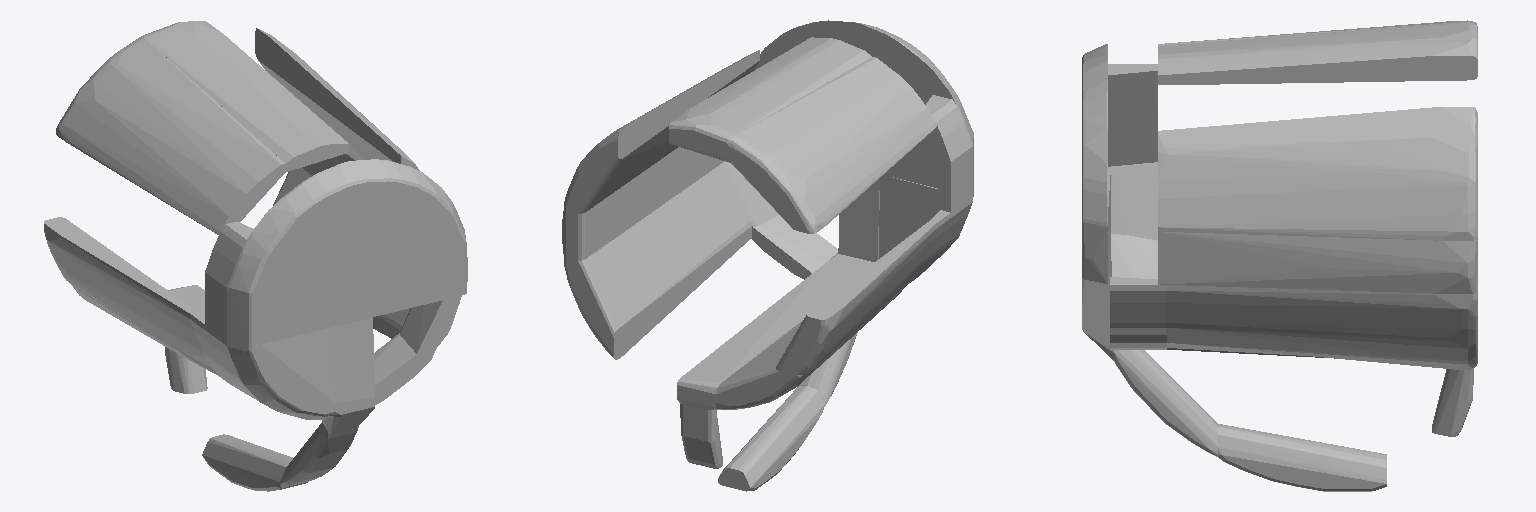
--- Render facts (derived) ---
Views: 3 orthographic renders of the robot side by side, from view 1: azimuth 30°, elevation 25°; view 2: azimuth 150°, elevation 25°; view 3: azimuth 270°, elevation 25°.
Model root with 27 links and 26 joints (26 fixed), rooted at link_coacd_convex_piece_0, posed all joints at 0.
Visible links, largest first — view 1: link_coacd_convex_piece_2, link_coacd_convex_piece_0, link_coacd_convex_piece_10, link_coacd_convex_piece_19, link_coacd_convex_piece_21, link_coacd_convex_piece_7, link_coacd_convex_piece_18, link_coacd_convex_piece_22, link_coacd_convex_piece_14, link_coacd_convex_piece_24, link_coacd_convex_piece_16, link_coacd_convex_piece_15 (+5 smaller); view 2: link_coacd_convex_piece_0, link_coacd_convex_piece_4, link_coacd_convex_piece_10, link_coacd_convex_piece_7, link_coacd_convex_piece_19, link_coacd_convex_piece_17, link_coacd_convex_piece_2, link_coacd_convex_piece_8, link_coacd_convex_piece_22, link_coacd_convex_piece_14, link_coacd_convex_piece_20, link_coacd_convex_piece_21 (+6 smaller); view 3: link_coacd_convex_piece_7, link_coacd_convex_piece_4, link_coacd_convex_piece_8, link_coacd_convex_piece_10, link_coacd_convex_piece_22, link_coacd_convex_piece_2, link_coacd_convex_piece_14, link_coacd_convex_piece_24, link_coacd_convex_piece_26, link_coacd_convex_piece_15, link_coacd_convex_piece_23, link_coacd_convex_piece_18 (+4 smaller).
Link boxes in pixels (bbox=[...]): link_coacd_convex_piece_2: bbox=[227, 159, 467, 346]; link_coacd_convex_piece_0: bbox=[56, 37, 285, 234]; link_coacd_convex_piece_10: bbox=[141, 21, 348, 171]; link_coacd_convex_piece_19: bbox=[44, 217, 213, 369]; link_coacd_convex_piece_21: bbox=[226, 327, 334, 419]; link_coacd_convex_piece_7: bbox=[255, 28, 419, 170]; link_coacd_convex_piece_18: bbox=[322, 317, 374, 434]; link_coacd_convex_piece_22: bbox=[202, 434, 307, 491]; link_coacd_convex_piece_14: bbox=[205, 222, 253, 339]; link_coacd_convex_piece_24: bbox=[280, 422, 358, 487]; link_coacd_convex_piece_16: bbox=[374, 333, 435, 404]; link_coacd_convex_piece_15: bbox=[400, 296, 461, 353]; link_coacd_convex_piece_0: bbox=[730, 57, 936, 233]; link_coacd_convex_piece_4: bbox=[564, 162, 751, 359]; link_coacd_convex_piece_10: bbox=[669, 37, 871, 162]; link_coacd_convex_piece_7: bbox=[564, 50, 759, 213]; link_coacd_convex_piece_19: bbox=[776, 222, 936, 374]; link_coacd_convex_piece_17: bbox=[677, 254, 874, 409]; link_coacd_convex_piece_2: bbox=[754, 20, 973, 190]; link_coacd_convex_piece_8: bbox=[562, 147, 723, 260]; link_coacd_convex_piece_22: bbox=[718, 386, 823, 491]; link_coacd_convex_piece_14: bbox=[926, 95, 972, 212]; link_coacd_convex_piece_20: bbox=[716, 280, 910, 409]; link_coacd_convex_piece_21: bbox=[879, 175, 973, 258]; link_coacd_convex_piece_7: bbox=[1158, 107, 1477, 240]; link_coacd_convex_piece_4: bbox=[1167, 285, 1477, 369]; link_coacd_convex_piece_8: bbox=[1158, 232, 1477, 293]; link_coacd_convex_piece_10: bbox=[1158, 22, 1477, 84]; link_coacd_convex_piece_22: bbox=[1218, 424, 1386, 491]; link_coacd_convex_piece_2: bbox=[1082, 44, 1107, 283]; link_coacd_convex_piece_14: bbox=[1108, 64, 1157, 166]; link_coacd_convex_piece_24: bbox=[1114, 350, 1217, 456]; link_coacd_convex_piece_26: bbox=[1111, 162, 1157, 240]; link_coacd_convex_piece_15: bbox=[1110, 277, 1166, 334]; link_coacd_convex_piece_23: bbox=[1432, 368, 1473, 436]; link_coacd_convex_piece_18: bbox=[1082, 210, 1113, 360].
Size in the robot's own frame: 1.09 by 1.24 by 1.55 metres.
19 mesh visuals loaded from 27 distinct referenced files (19 OBJ); not drawn: 8 (reference not matched to a file when rendering).

robot.urdf — root:
<robot name="root">
  <link name="link_coacd_convex_piece_0">
    <inertial>
      <origin xyz="0 0 0" rpy="0 0 0"/>
      <inertia ixx="5.61E-03" ixy="7.98E-04" ixz="2.26E-03" iyy="5.37E-03" iyz="-1.41E-03" izz="2.76E-03"/>
    </inertial>
    <visual>
      <origin xyz="0 0 0" rpy="0 0 0"/>
      <geometry>
        <mesh filename="coacd_convex_piece_0.obj" scale="1.0000E+00 1.0000E+00 1.0000E+00"/>
      </geometry>
      <material name="">
        <color rgba="7.50E-01 7.50E-01 7.50E-01 1"/>
      </material>
    </visual>
    <collision>
      <origin xyz="0 0 0" rpy="0 0 0"/>
      <geometry>
        <mesh filename="coacd_convex_piece_0.obj" scale="1.0000E+00 1.0000E+00 1.0000E+00"/>
      </geometry>
    </collision>
  </link>
  <link name="link_coacd_convex_piece_1">
    <inertial>
      <origin xyz="0 0 0" rpy="0 0 0"/>
      <inertia ixx="2.21E-03" ixy="1.08E-03" ixz="1.78E-03" iyy="3.54E-03" iyz="-5.56E-04" izz="4.10E-03"/>
    </inertial>
    <visual>
      <origin xyz="0 0 0" rpy="0 0 0"/>
      <geometry>
        <mesh filename="coacd_convex_piece_1.obj" scale="1.0000E+00 1.0000E+00 1.0000E+00"/>
      </geometry>
      <material name="">
        <color rgba="7.50E-01 7.50E-01 7.50E-01 1"/>
      </material>
    </visual>
    <collision>
      <origin xyz="0 0 0" rpy="0 0 0"/>
      <geometry>
        <mesh filename="coacd_convex_piece_1.obj" scale="1.0000E+00 1.0000E+00 1.0000E+00"/>
      </geometry>
    </collision>
  </link>
  <joint name="link_coacd_convex_piece_1_joint" type="fixed">
    <origin xyz="0 0 0" rpy="0 0 0"/>
    <parent link="link_coacd_convex_piece_0"/>
    <child link="link_coacd_convex_piece_1"/>
  </joint>
  <link name="link_coacd_convex_piece_2">
    <inertial>
      <origin xyz="0 0 0" rpy="0 0 0"/>
      <inertia ixx="6.85E-03" ixy="9.73E-06" ixz="-1.01E-06" iyy="2.70E-03" iyz="3.39E-03" izz="5.81E-03"/>
    </inertial>
    <visual>
      <origin xyz="0 0 0" rpy="0 0 0"/>
      <geometry>
        <mesh filename="coacd_convex_piece_2.obj" scale="1.0000E+00 1.0000E+00 1.0000E+00"/>
      </geometry>
      <material name="">
        <color rgba="7.50E-01 7.50E-01 7.50E-01 1"/>
      </material>
    </visual>
    <collision>
      <origin xyz="0 0 0" rpy="0 0 0"/>
      <geometry>
        <mesh filename="coacd_convex_piece_2.obj" scale="1.0000E+00 1.0000E+00 1.0000E+00"/>
      </geometry>
    </collision>
  </link>
  <joint name="link_coacd_convex_piece_2_joint" type="fixed">
    <origin xyz="0 0 0" rpy="0 0 0"/>
    <parent link="link_coacd_convex_piece_1"/>
    <child link="link_coacd_convex_piece_2"/>
  </joint>
  <link name="link_coacd_convex_piece_3">
    <inertial>
      <origin xyz="0 0 0" rpy="0 0 0"/>
      <inertia ixx="5.56E-04" ixy="4.28E-08" ixz="2.51E-07" iyy="3.79E-04" iyz="2.78E-04" izz="1.80E-04"/>
    </inertial>
    <visual>
      <origin xyz="0 0 0" rpy="0 0 0"/>
      <geometry>
        <mesh filename="coacd_convex_piece_3.obj" scale="1.0000E+00 1.0000E+00 1.0000E+00"/>
      </geometry>
      <material name="">
        <color rgba="7.50E-01 7.50E-01 7.50E-01 1"/>
      </material>
    </visual>
    <collision>
      <origin xyz="0 0 0" rpy="0 0 0"/>
      <geometry>
        <mesh filename="coacd_convex_piece_3.obj" scale="1.0000E+00 1.0000E+00 1.0000E+00"/>
      </geometry>
    </collision>
  </link>
  <joint name="link_coacd_convex_piece_3_joint" type="fixed">
    <origin xyz="0 0 0" rpy="0 0 0"/>
    <parent link="link_coacd_convex_piece_2"/>
    <child link="link_coacd_convex_piece_3"/>
  </joint>
  <link name="link_coacd_convex_piece_4">
    <inertial>
      <origin xyz="0 0 0" rpy="0 0 0"/>
      <inertia ixx="9.22E-04" ixy="-9.73E-04" ixz="1.97E-05" iyy="1.57E-03" iyz="1.59E-04" izz="3.13E-03"/>
    </inertial>
    <visual>
      <origin xyz="0 0 0" rpy="0 0 0"/>
      <geometry>
        <mesh filename="coacd_convex_piece_4.obj" scale="1.0000E+00 1.0000E+00 1.0000E+00"/>
      </geometry>
      <material name="">
        <color rgba="7.50E-01 7.50E-01 7.50E-01 1"/>
      </material>
    </visual>
    <collision>
      <origin xyz="0 0 0" rpy="0 0 0"/>
      <geometry>
        <mesh filename="coacd_convex_piece_4.obj" scale="1.0000E+00 1.0000E+00 1.0000E+00"/>
      </geometry>
    </collision>
  </link>
  <joint name="link_coacd_convex_piece_4_joint" type="fixed">
    <origin xyz="0 0 0" rpy="0 0 0"/>
    <parent link="link_coacd_convex_piece_3"/>
    <child link="link_coacd_convex_piece_4"/>
  </joint>
  <link name="link_coacd_convex_piece_5">
    <inertial>
      <origin xyz="0 0 0" rpy="0 0 0"/>
      <inertia ixx="1.14E-03" ixy="-3.73E-04" ixz="3.83E-04" iyy="5.21E-04" iyz="5.22E-04" izz="1.50E-03"/>
    </inertial>
    <visual>
      <origin xyz="0 0 0" rpy="0 0 0"/>
      <geometry>
        <mesh filename="coacd_convex_piece_5.obj" scale="1.0000E+00 1.0000E+00 1.0000E+00"/>
      </geometry>
      <material name="">
        <color rgba="7.50E-01 7.50E-01 7.50E-01 1"/>
      </material>
    </visual>
    <collision>
      <origin xyz="0 0 0" rpy="0 0 0"/>
      <geometry>
        <mesh filename="coacd_convex_piece_5.obj" scale="1.0000E+00 1.0000E+00 1.0000E+00"/>
      </geometry>
    </collision>
  </link>
  <joint name="link_coacd_convex_piece_5_joint" type="fixed">
    <origin xyz="0 0 0" rpy="0 0 0"/>
    <parent link="link_coacd_convex_piece_4"/>
    <child link="link_coacd_convex_piece_5"/>
  </joint>
  <link name="link_coacd_convex_piece_6">
    <inertial>
      <origin xyz="0 0 0" rpy="0 0 0"/>
      <inertia ixx="1.17E-03" ixy="5.06E-04" ixz="1.11E-06" iyy="1.33E-04" iyz="2.20E-06" izz="1.51E-03"/>
    </inertial>
    <visual>
      <origin xyz="0 0 0" rpy="0 0 0"/>
      <geometry>
        <mesh filename="coacd_convex_piece_6.obj" scale="1.0000E+00 1.0000E+00 1.0000E+00"/>
      </geometry>
      <material name="">
        <color rgba="7.50E-01 7.50E-01 7.50E-01 1"/>
      </material>
    </visual>
    <collision>
      <origin xyz="0 0 0" rpy="0 0 0"/>
      <geometry>
        <mesh filename="coacd_convex_piece_6.obj" scale="1.0000E+00 1.0000E+00 1.0000E+00"/>
      </geometry>
    </collision>
  </link>
  <joint name="link_coacd_convex_piece_6_joint" type="fixed">
    <origin xyz="0 0 0" rpy="0 0 0"/>
    <parent link="link_coacd_convex_piece_5"/>
    <child link="link_coacd_convex_piece_6"/>
  </joint>
  <link name="link_coacd_convex_piece_7">
    <inertial>
      <origin xyz="0 0 0" rpy="0 0 0"/>
      <inertia ixx="3.54E-03" ixy="-9.53E-04" ixz="-2.17E-03" iyy="4.15E-03" iyz="-9.94E-04" izz="3.24E-03"/>
    </inertial>
    <visual>
      <origin xyz="0 0 0" rpy="0 0 0"/>
      <geometry>
        <mesh filename="coacd_convex_piece_7.obj" scale="1.0000E+00 1.0000E+00 1.0000E+00"/>
      </geometry>
      <material name="">
        <color rgba="7.50E-01 7.50E-01 7.50E-01 1"/>
      </material>
    </visual>
    <collision>
      <origin xyz="0 0 0" rpy="0 0 0"/>
      <geometry>
        <mesh filename="coacd_convex_piece_7.obj" scale="1.0000E+00 1.0000E+00 1.0000E+00"/>
      </geometry>
    </collision>
  </link>
  <joint name="link_coacd_convex_piece_7_joint" type="fixed">
    <origin xyz="0 0 0" rpy="0 0 0"/>
    <parent link="link_coacd_convex_piece_6"/>
    <child link="link_coacd_convex_piece_7"/>
  </joint>
  <link name="link_coacd_convex_piece_8">
    <inertial>
      <origin xyz="0 0 0" rpy="0 0 0"/>
      <inertia ixx="7.14E-04" ixy="-5.34E-04" ixz="-6.05E-04" iyy="1.38E-03" iyz="-1.91E-04" izz="1.89E-03"/>
    </inertial>
    <visual>
      <origin xyz="0 0 0" rpy="0 0 0"/>
      <geometry>
        <mesh filename="coacd_convex_piece_8.obj" scale="1.0000E+00 1.0000E+00 1.0000E+00"/>
      </geometry>
      <material name="">
        <color rgba="7.50E-01 7.50E-01 7.50E-01 1"/>
      </material>
    </visual>
    <collision>
      <origin xyz="0 0 0" rpy="0 0 0"/>
      <geometry>
        <mesh filename="coacd_convex_piece_8.obj" scale="1.0000E+00 1.0000E+00 1.0000E+00"/>
      </geometry>
    </collision>
  </link>
  <joint name="link_coacd_convex_piece_8_joint" type="fixed">
    <origin xyz="0 0 0" rpy="0 0 0"/>
    <parent link="link_coacd_convex_piece_7"/>
    <child link="link_coacd_convex_piece_8"/>
  </joint>
  <link name="link_coacd_convex_piece_9">
    <inertial>
      <origin xyz="0 0 0" rpy="0 0 0"/>
      <inertia ixx="3.84E-03" ixy="-2.99E-04" ixz="-1.03E-03" iyy="3.35E-03" iyz="-8.88E-04" izz="1.20E-03"/>
    </inertial>
    <visual>
      <origin xyz="0 0 0" rpy="0 0 0"/>
      <geometry>
        <mesh filename="coacd_convex_piece_9.obj" scale="1.0000E+00 1.0000E+00 1.0000E+00"/>
      </geometry>
      <material name="">
        <color rgba="7.50E-01 7.50E-01 7.50E-01 1"/>
      </material>
    </visual>
    <collision>
      <origin xyz="0 0 0" rpy="0 0 0"/>
      <geometry>
        <mesh filename="coacd_convex_piece_9.obj" scale="1.0000E+00 1.0000E+00 1.0000E+00"/>
      </geometry>
    </collision>
  </link>
  <joint name="link_coacd_convex_piece_9_joint" type="fixed">
    <origin xyz="0 0 0" rpy="0 0 0"/>
    <parent link="link_coacd_convex_piece_8"/>
    <child link="link_coacd_convex_piece_9"/>
  </joint>
  <link name="link_coacd_convex_piece_10">
    <inertial>
      <origin xyz="0 0 0" rpy="0 0 0"/>
      <inertia ixx="4.91E-03" ixy="4.23E-05" ixz="1.61E-04" iyy="4.00E-03" iyz="-1.04E-03" izz="1.00E-03"/>
    </inertial>
    <visual>
      <origin xyz="0 0 0" rpy="0 0 0"/>
      <geometry>
        <mesh filename="coacd_convex_piece_10.obj" scale="1.0000E+00 1.0000E+00 1.0000E+00"/>
      </geometry>
      <material name="">
        <color rgba="7.50E-01 7.50E-01 7.50E-01 1"/>
      </material>
    </visual>
    <collision>
      <origin xyz="0 0 0" rpy="0 0 0"/>
      <geometry>
        <mesh filename="coacd_convex_piece_10.obj" scale="1.0000E+00 1.0000E+00 1.0000E+00"/>
      </geometry>
    </collision>
  </link>
  <joint name="link_coacd_convex_piece_10_joint" type="fixed">
    <origin xyz="0 0 0" rpy="0 0 0"/>
    <parent link="link_coacd_convex_piece_9"/>
    <child link="link_coacd_convex_piece_10"/>
  </joint>
  <link name="link_coacd_convex_piece_11">
    <inertial>
      <origin xyz="0 0 0" rpy="0 0 0"/>
      <inertia ixx="7.21E-04" ixy="4.30E-04" ixz="-3.18E-04" iyy="6.04E-04" iyz="3.97E-04" izz="8.72E-04"/>
    </inertial>
    <visual>
      <origin xyz="0 0 0" rpy="0 0 0"/>
      <geometry>
        <mesh filename="coacd_convex_piece_11.obj" scale="1.0000E+00 1.0000E+00 1.0000E+00"/>
      </geometry>
      <material name="">
        <color rgba="7.50E-01 7.50E-01 7.50E-01 1"/>
      </material>
    </visual>
    <collision>
      <origin xyz="0 0 0" rpy="0 0 0"/>
      <geometry>
        <mesh filename="coacd_convex_piece_11.obj" scale="1.0000E+00 1.0000E+00 1.0000E+00"/>
      </geometry>
    </collision>
  </link>
  <joint name="link_coacd_convex_piece_11_joint" type="fixed">
    <origin xyz="0 0 0" rpy="0 0 0"/>
    <parent link="link_coacd_convex_piece_10"/>
    <child link="link_coacd_convex_piece_11"/>
  </joint>
  <link name="link_coacd_convex_piece_12">
    <inertial>
      <origin xyz="0 0 0" rpy="0 0 0"/>
      <inertia ixx="9.98E-04" ixy="1.38E-04" ixz="-1.76E-04" iyy="6.75E-04" iyz="5.27E-04" izz="4.47E-04"/>
    </inertial>
    <visual>
      <origin xyz="0 0 0" rpy="0 0 0"/>
      <geometry>
        <mesh filename="coacd_convex_piece_12.obj" scale="1.0000E+00 1.0000E+00 1.0000E+00"/>
      </geometry>
      <material name="">
        <color rgba="7.50E-01 7.50E-01 7.50E-01 1"/>
      </material>
    </visual>
    <collision>
      <origin xyz="0 0 0" rpy="0 0 0"/>
      <geometry>
        <mesh filename="coacd_convex_piece_12.obj" scale="1.0000E+00 1.0000E+00 1.0000E+00"/>
      </geometry>
    </collision>
  </link>
  <joint name="link_coacd_convex_piece_12_joint" type="fixed">
    <origin xyz="0 0 0" rpy="0 0 0"/>
    <parent link="link_coacd_convex_piece_11"/>
    <child link="link_coacd_convex_piece_12"/>
  </joint>
  <link name="link_coacd_convex_piece_13">
    <inertial>
      <origin xyz="0 0 0" rpy="0 0 0"/>
      <inertia ixx="1.15E-03" ixy="-1.82E-04" ixz="2.30E-04" iyy="7.94E-04" iyz="6.10E-04" izz="5.43E-04"/>
    </inertial>
    <visual>
      <origin xyz="0 0 0" rpy="0 0 0"/>
      <geometry>
        <mesh filename="coacd_convex_piece_13.obj" scale="1.0000E+00 1.0000E+00 1.0000E+00"/>
      </geometry>
      <material name="">
        <color rgba="7.50E-01 7.50E-01 7.50E-01 1"/>
      </material>
    </visual>
    <collision>
      <origin xyz="0 0 0" rpy="0 0 0"/>
      <geometry>
        <mesh filename="coacd_convex_piece_13.obj" scale="1.0000E+00 1.0000E+00 1.0000E+00"/>
      </geometry>
    </collision>
  </link>
  <joint name="link_coacd_convex_piece_13_joint" type="fixed">
    <origin xyz="0 0 0" rpy="0 0 0"/>
    <parent link="link_coacd_convex_piece_12"/>
    <child link="link_coacd_convex_piece_13"/>
  </joint>
  <link name="link_coacd_convex_piece_14">
    <inertial>
      <origin xyz="0 0 0" rpy="0 0 0"/>
      <inertia ixx="5.87E-04" ixy="-3.79E-04" ixz="2.64E-04" iyy="4.96E-04" iyz="3.22E-04" izz="7.65E-04"/>
    </inertial>
    <visual>
      <origin xyz="0 0 0" rpy="0 0 0"/>
      <geometry>
        <mesh filename="coacd_convex_piece_14.obj" scale="1.0000E+00 1.0000E+00 1.0000E+00"/>
      </geometry>
      <material name="">
        <color rgba="7.50E-01 7.50E-01 7.50E-01 1"/>
      </material>
    </visual>
    <collision>
      <origin xyz="0 0 0" rpy="0 0 0"/>
      <geometry>
        <mesh filename="coacd_convex_piece_14.obj" scale="1.0000E+00 1.0000E+00 1.0000E+00"/>
      </geometry>
    </collision>
  </link>
  <joint name="link_coacd_convex_piece_14_joint" type="fixed">
    <origin xyz="0 0 0" rpy="0 0 0"/>
    <parent link="link_coacd_convex_piece_13"/>
    <child link="link_coacd_convex_piece_14"/>
  </joint>
  <link name="link_coacd_convex_piece_15">
    <inertial>
      <origin xyz="0 0 0" rpy="0 0 0"/>
      <inertia ixx="2.12E-04" ixy="2.21E-04" ixz="-1.15E-05" iyy="1.55E-04" iyz="2.28E-05" izz="4.49E-04"/>
    </inertial>
    <visual>
      <origin xyz="0 0 0" rpy="0 0 0"/>
      <geometry>
        <mesh filename="coacd_convex_piece_15.obj" scale="1.0000E+00 1.0000E+00 1.0000E+00"/>
      </geometry>
      <material name="">
        <color rgba="7.50E-01 7.50E-01 7.50E-01 1"/>
      </material>
    </visual>
    <collision>
      <origin xyz="0 0 0" rpy="0 0 0"/>
      <geometry>
        <mesh filename="coacd_convex_piece_15.obj" scale="1.0000E+00 1.0000E+00 1.0000E+00"/>
      </geometry>
    </collision>
  </link>
  <joint name="link_coacd_convex_piece_15_joint" type="fixed">
    <origin xyz="0 0 0" rpy="0 0 0"/>
    <parent link="link_coacd_convex_piece_14"/>
    <child link="link_coacd_convex_piece_15"/>
  </joint>
  <link name="link_coacd_convex_piece_16">
    <inertial>
      <origin xyz="0 0 0" rpy="0 0 0"/>
      <inertia ixx="2.80E-04" ixy="1.32E-04" ixz="4.68E-05" iyy="6.00E-05" iyz="-9.61E-05" izz="3.57E-04"/>
    </inertial>
    <visual>
      <origin xyz="0 0 0" rpy="0 0 0"/>
      <geometry>
        <mesh filename="coacd_convex_piece_16.obj" scale="1.0000E+00 1.0000E+00 1.0000E+00"/>
      </geometry>
      <material name="">
        <color rgba="7.50E-01 7.50E-01 7.50E-01 1"/>
      </material>
    </visual>
    <collision>
      <origin xyz="0 0 0" rpy="0 0 0"/>
      <geometry>
        <mesh filename="coacd_convex_piece_16.obj" scale="1.0000E+00 1.0000E+00 1.0000E+00"/>
      </geometry>
    </collision>
  </link>
  <joint name="link_coacd_convex_piece_16_joint" type="fixed">
    <origin xyz="0 0 0" rpy="0 0 0"/>
    <parent link="link_coacd_convex_piece_15"/>
    <child link="link_coacd_convex_piece_16"/>
  </joint>
  <link name="link_coacd_convex_piece_17">
    <inertial>
      <origin xyz="0 0 0" rpy="0 0 0"/>
      <inertia ixx="9.50E-04" ixy="9.66E-06" ixz="-1.94E-05" iyy="2.21E-04" iyz="2.51E-04" izz="7.59E-04"/>
    </inertial>
    <visual>
      <origin xyz="0 0 0" rpy="0 0 0"/>
      <geometry>
        <mesh filename="coacd_convex_piece_17.obj" scale="1.0000E+00 1.0000E+00 1.0000E+00"/>
      </geometry>
      <material name="">
        <color rgba="7.50E-01 7.50E-01 7.50E-01 1"/>
      </material>
    </visual>
    <collision>
      <origin xyz="0 0 0" rpy="0 0 0"/>
      <geometry>
        <mesh filename="coacd_convex_piece_17.obj" scale="1.0000E+00 1.0000E+00 1.0000E+00"/>
      </geometry>
    </collision>
  </link>
  <joint name="link_coacd_convex_piece_17_joint" type="fixed">
    <origin xyz="0 0 0" rpy="0 0 0"/>
    <parent link="link_coacd_convex_piece_16"/>
    <child link="link_coacd_convex_piece_17"/>
  </joint>
  <link name="link_coacd_convex_piece_18">
    <inertial>
      <origin xyz="0 0 0" rpy="0 0 0"/>
      <inertia ixx="7.42E-04" ixy="-1.63E-05" ixz="-1.38E-06" iyy="-3.72E-05" iyz="-8.20E-05" izz="7.90E-04"/>
    </inertial>
    <visual>
      <origin xyz="0 0 0" rpy="0 0 0"/>
      <geometry>
        <mesh filename="coacd_convex_piece_18.obj" scale="1.0000E+00 1.0000E+00 1.0000E+00"/>
      </geometry>
      <material name="">
        <color rgba="7.50E-01 7.50E-01 7.50E-01 1"/>
      </material>
    </visual>
    <collision>
      <origin xyz="0 0 0" rpy="0 0 0"/>
      <geometry>
        <mesh filename="coacd_convex_piece_18.obj" scale="1.0000E+00 1.0000E+00 1.0000E+00"/>
      </geometry>
    </collision>
  </link>
  <joint name="link_coacd_convex_piece_18_joint" type="fixed">
    <origin xyz="0 0 0" rpy="0 0 0"/>
    <parent link="link_coacd_convex_piece_17"/>
    <child link="link_coacd_convex_piece_18"/>
  </joint>
  <link name="link_coacd_convex_piece_19">
    <inertial>
      <origin xyz="0 0 0" rpy="0 0 0"/>
      <inertia ixx="6.66E-04" ixy="8.31E-04" ixz="6.44E-05" iyy="1.27E-03" iyz="5.59E-05" izz="2.46E-03"/>
    </inertial>
    <visual>
      <origin xyz="0 0 0" rpy="0 0 0"/>
      <geometry>
        <mesh filename="coacd_convex_piece_19.obj" scale="1.0000E+00 1.0000E+00 1.0000E+00"/>
      </geometry>
      <material name="">
        <color rgba="7.50E-01 7.50E-01 7.50E-01 1"/>
      </material>
    </visual>
    <collision>
      <origin xyz="0 0 0" rpy="0 0 0"/>
      <geometry>
        <mesh filename="coacd_convex_piece_19.obj" scale="1.0000E+00 1.0000E+00 1.0000E+00"/>
      </geometry>
    </collision>
  </link>
  <joint name="link_coacd_convex_piece_19_joint" type="fixed">
    <origin xyz="0 0 0" rpy="0 0 0"/>
    <parent link="link_coacd_convex_piece_18"/>
    <child link="link_coacd_convex_piece_19"/>
  </joint>
  <link name="link_coacd_convex_piece_20">
    <inertial>
      <origin xyz="0 0 0" rpy="0 0 0"/>
      <inertia ixx="1.20E-03" ixy="6.04E-04" ixz="-4.21E-04" iyy="6.67E-04" iyz="5.83E-04" izz="1.82E-03"/>
    </inertial>
    <visual>
      <origin xyz="0 0 0" rpy="0 0 0"/>
      <geometry>
        <mesh filename="coacd_convex_piece_20.obj" scale="1.0000E+00 1.0000E+00 1.0000E+00"/>
      </geometry>
      <material name="">
        <color rgba="7.50E-01 7.50E-01 7.50E-01 1"/>
      </material>
    </visual>
    <collision>
      <origin xyz="0 0 0" rpy="0 0 0"/>
      <geometry>
        <mesh filename="coacd_convex_piece_20.obj" scale="1.0000E+00 1.0000E+00 1.0000E+00"/>
      </geometry>
    </collision>
  </link>
  <joint name="link_coacd_convex_piece_20_joint" type="fixed">
    <origin xyz="0 0 0" rpy="0 0 0"/>
    <parent link="link_coacd_convex_piece_19"/>
    <child link="link_coacd_convex_piece_20"/>
  </joint>
  <link name="link_coacd_convex_piece_21">
    <inertial>
      <origin xyz="0 0 0" rpy="0 0 0"/>
      <inertia ixx="1.09E-03" ixy="-5.05E-04" ixz="1.36E-06" iyy="1.44E-04" iyz="8.81E-06" izz="1.43E-03"/>
    </inertial>
    <visual>
      <origin xyz="0 0 0" rpy="0 0 0"/>
      <geometry>
        <mesh filename="coacd_convex_piece_21.obj" scale="1.0000E+00 1.0000E+00 1.0000E+00"/>
      </geometry>
      <material name="">
        <color rgba="7.50E-01 7.50E-01 7.50E-01 1"/>
      </material>
    </visual>
    <collision>
      <origin xyz="0 0 0" rpy="0 0 0"/>
      <geometry>
        <mesh filename="coacd_convex_piece_21.obj" scale="1.0000E+00 1.0000E+00 1.0000E+00"/>
      </geometry>
    </collision>
  </link>
  <joint name="link_coacd_convex_piece_21_joint" type="fixed">
    <origin xyz="0 0 0" rpy="0 0 0"/>
    <parent link="link_coacd_convex_piece_20"/>
    <child link="link_coacd_convex_piece_21"/>
  </joint>
  <link name="link_coacd_convex_piece_22">
    <inertial>
      <origin xyz="0 0 0" rpy="0 0 0"/>
      <inertia ixx="1.45E-03" ixy="2.14E-07" ixz="1.86E-06" iyy="1.39E-03" iyz="1.93E-04" izz="7.35E-05"/>
    </inertial>
    <visual>
      <origin xyz="0 0 0" rpy="0 0 0"/>
      <geometry>
        <mesh filename="coacd_convex_piece_22.obj" scale="1.0000E+00 1.0000E+00 1.0000E+00"/>
      </geometry>
      <material name="">
        <color rgba="7.50E-01 7.50E-01 7.50E-01 1"/>
      </material>
    </visual>
    <collision>
      <origin xyz="0 0 0" rpy="0 0 0"/>
      <geometry>
        <mesh filename="coacd_convex_piece_22.obj" scale="1.0000E+00 1.0000E+00 1.0000E+00"/>
      </geometry>
    </collision>
  </link>
  <joint name="link_coacd_convex_piece_22_joint" type="fixed">
    <origin xyz="0 0 0" rpy="0 0 0"/>
    <parent link="link_coacd_convex_piece_21"/>
    <child link="link_coacd_convex_piece_22"/>
  </joint>
  <link name="link_coacd_convex_piece_23">
    <inertial>
      <origin xyz="0 0 0" rpy="0 0 0"/>
      <inertia ixx="5.36E-04" ixy="2.77E-07" ixz="1.05E-07" iyy="1.97E-04" iyz="2.91E-04" izz="3.42E-04"/>
    </inertial>
    <visual>
      <origin xyz="0 0 0" rpy="0 0 0"/>
      <geometry>
        <mesh filename="coacd_convex_piece_23.obj" scale="1.0000E+00 1.0000E+00 1.0000E+00"/>
      </geometry>
      <material name="">
        <color rgba="7.50E-01 7.50E-01 7.50E-01 1"/>
      </material>
    </visual>
    <collision>
      <origin xyz="0 0 0" rpy="0 0 0"/>
      <geometry>
        <mesh filename="coacd_convex_piece_23.obj" scale="1.0000E+00 1.0000E+00 1.0000E+00"/>
      </geometry>
    </collision>
  </link>
  <joint name="link_coacd_convex_piece_23_joint" type="fixed">
    <origin xyz="0 0 0" rpy="0 0 0"/>
    <parent link="link_coacd_convex_piece_22"/>
    <child link="link_coacd_convex_piece_23"/>
  </joint>
  <link name="link_coacd_convex_piece_24">
    <inertial>
      <origin xyz="0 0 0" rpy="0 0 0"/>
      <inertia ixx="6.70E-04" ixy="4.66E-07" ixz="9.53E-07" iyy="3.85E-04" iyz="-3.13E-04" izz="2.90E-04"/>
    </inertial>
    <visual>
      <origin xyz="0 0 0" rpy="0 0 0"/>
      <geometry>
        <mesh filename="coacd_convex_piece_24.obj" scale="1.0000E+00 1.0000E+00 1.0000E+00"/>
      </geometry>
      <material name="">
        <color rgba="7.50E-01 7.50E-01 7.50E-01 1"/>
      </material>
    </visual>
    <collision>
      <origin xyz="0 0 0" rpy="0 0 0"/>
      <geometry>
        <mesh filename="coacd_convex_piece_24.obj" scale="1.0000E+00 1.0000E+00 1.0000E+00"/>
      </geometry>
    </collision>
  </link>
  <joint name="link_coacd_convex_piece_24_joint" type="fixed">
    <origin xyz="0 0 0" rpy="0 0 0"/>
    <parent link="link_coacd_convex_piece_23"/>
    <child link="link_coacd_convex_piece_24"/>
  </joint>
  <link name="link_coacd_convex_piece_25">
    <inertial>
      <origin xyz="0 0 0" rpy="0 0 0"/>
      <inertia ixx="2.74E-04" ixy="-1.43E-04" ixz="-5.36E-05" iyy="6.75E-05" iyz="-9.68E-05" izz="3.65E-04"/>
    </inertial>
    <visual>
      <origin xyz="0 0 0" rpy="0 0 0"/>
      <geometry>
        <mesh filename="coacd_convex_piece_25.obj" scale="1.0000E+00 1.0000E+00 1.0000E+00"/>
      </geometry>
      <material name="">
        <color rgba="7.50E-01 7.50E-01 7.50E-01 1"/>
      </material>
    </visual>
    <collision>
      <origin xyz="0 0 0" rpy="0 0 0"/>
      <geometry>
        <mesh filename="coacd_convex_piece_25.obj" scale="1.0000E+00 1.0000E+00 1.0000E+00"/>
      </geometry>
    </collision>
  </link>
  <joint name="link_coacd_convex_piece_25_joint" type="fixed">
    <origin xyz="0 0 0" rpy="0 0 0"/>
    <parent link="link_coacd_convex_piece_24"/>
    <child link="link_coacd_convex_piece_25"/>
  </joint>
  <link name="link_coacd_convex_piece_26">
    <inertial>
      <origin xyz="0 0 0" rpy="0 0 0"/>
      <inertia ixx="2.41E-04" ixy="-2.79E-04" ixz="8.74E-06" iyy="2.15E-04" iyz="2.18E-05" izz="5.65E-04"/>
    </inertial>
    <visual>
      <origin xyz="0 0 0" rpy="0 0 0"/>
      <geometry>
        <mesh filename="coacd_convex_piece_26.obj" scale="1.0000E+00 1.0000E+00 1.0000E+00"/>
      </geometry>
      <material name="">
        <color rgba="7.50E-01 7.50E-01 7.50E-01 1"/>
      </material>
    </visual>
    <collision>
      <origin xyz="0 0 0" rpy="0 0 0"/>
      <geometry>
        <mesh filename="coacd_convex_piece_26.obj" scale="1.0000E+00 1.0000E+00 1.0000E+00"/>
      </geometry>
    </collision>
  </link>
  <joint name="link_coacd_convex_piece_26_joint" type="fixed">
    <origin xyz="0 0 0" rpy="0 0 0"/>
    <parent link="link_coacd_convex_piece_25"/>
    <child link="link_coacd_convex_piece_26"/>
  </joint>
</robot>
